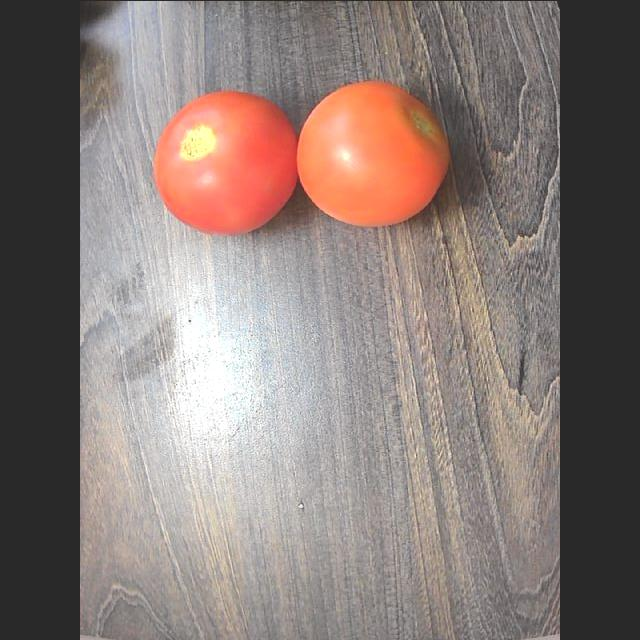tomate: (297, 81, 448, 225), (154, 90, 297, 234)
